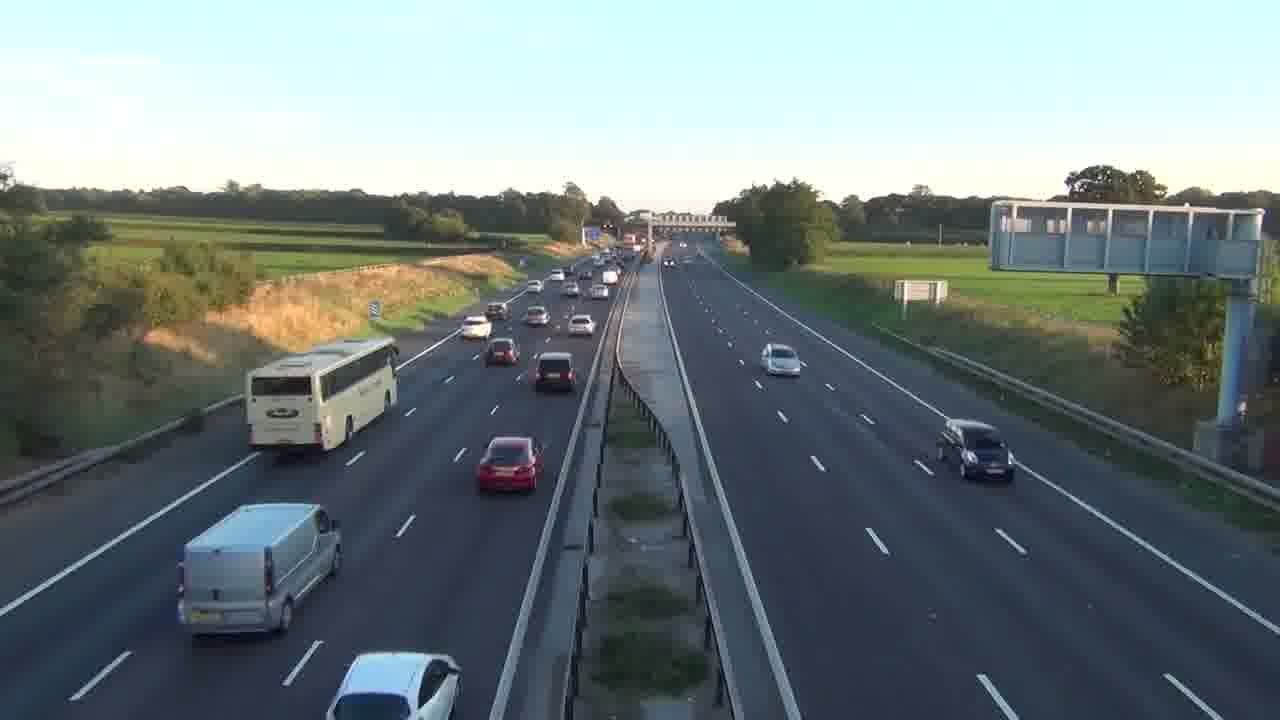bus: (246, 336, 400, 452)
car: (325, 650, 463, 719), (935, 418, 1014, 482), (475, 434, 546, 494), (534, 351, 577, 393), (760, 343, 806, 377), (482, 336, 520, 367), (568, 313, 594, 336)
truck: (175, 500, 343, 638)
